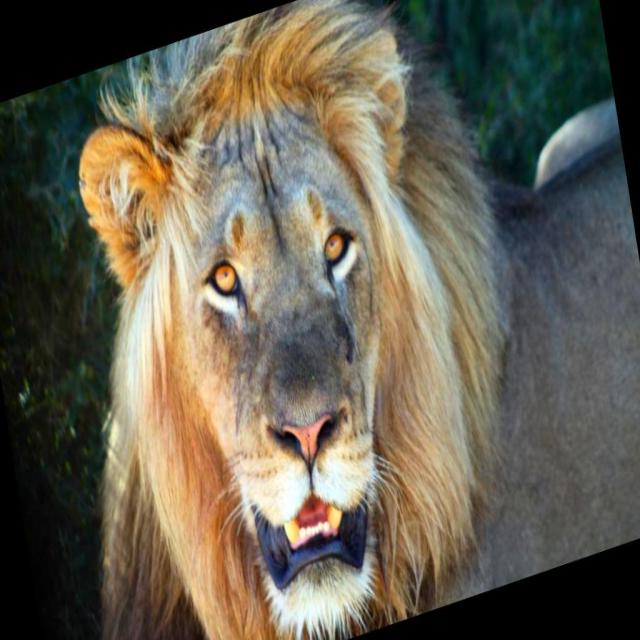Lion: (12, 0, 639, 639)
